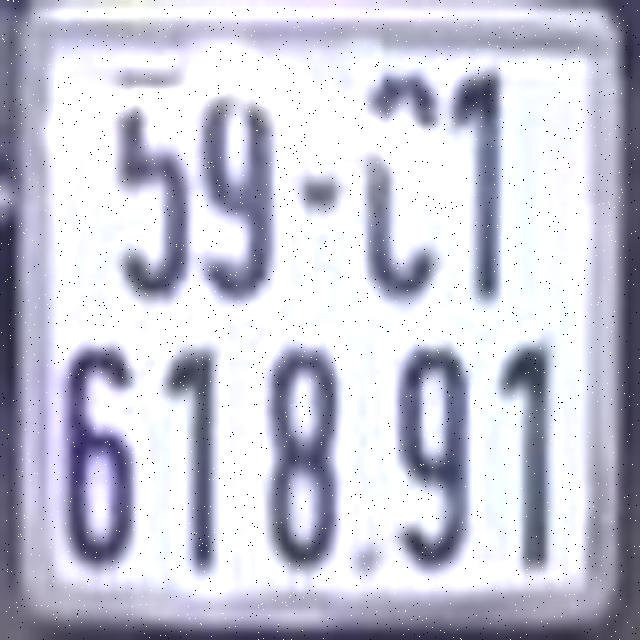1: (450, 66, 512, 302), (497, 340, 559, 571), (164, 345, 223, 572)
5: (112, 62, 192, 297)
6: (63, 342, 137, 568)
8: (268, 343, 339, 568)
9: (199, 55, 278, 303), (395, 341, 472, 570)
C: (362, 69, 442, 300)
